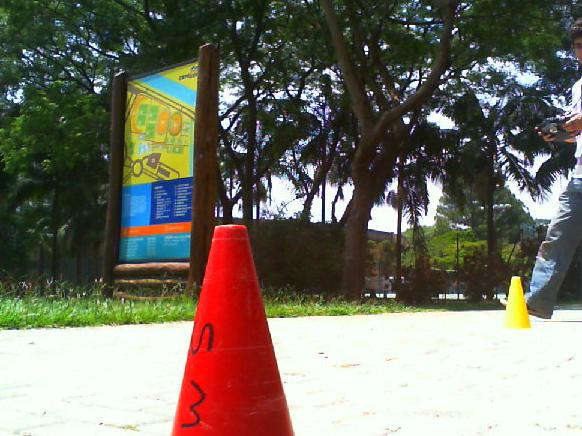0 cone: (165, 226, 303, 436), (499, 276, 533, 332)
